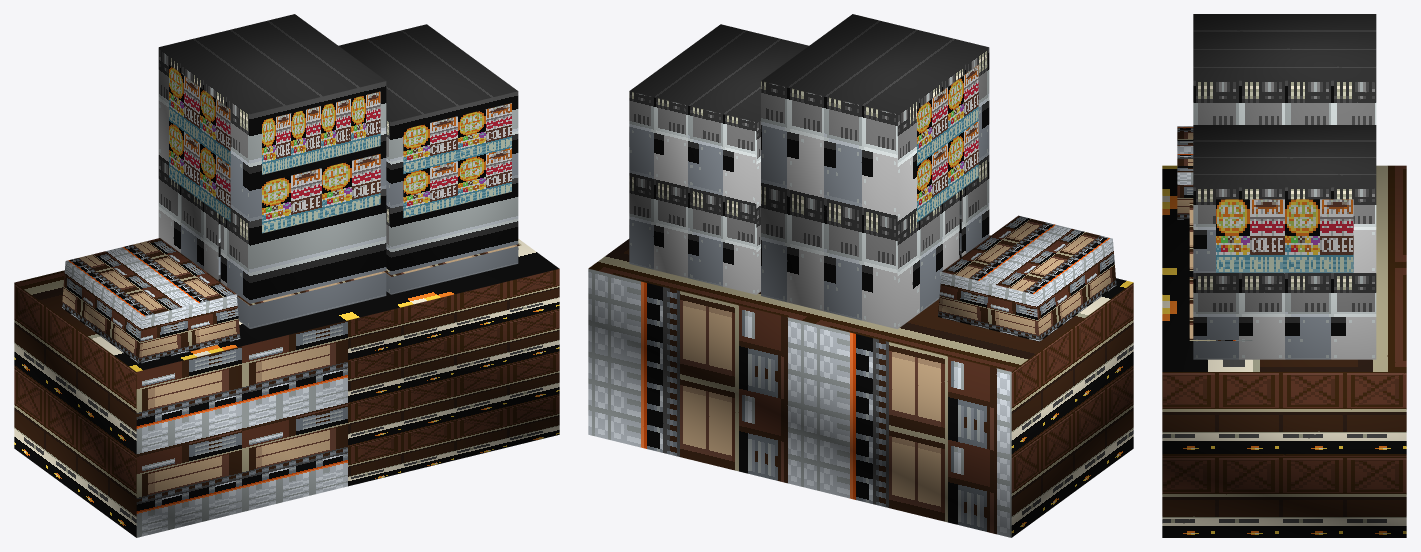
File: 3333IMIG11_02.gltf
3 views of the same model, side by side, from view 1: azimuth 30°, elevation 25°; view 2: azimuth 150°, elevation 25°; view 3: azimuth 270°, elevation 25° (orthographic).
Parts seen in each view (by area): view 1: 3333IMIG11_02; view 2: 3333IMIG11_02; view 3: 3333IMIG11_02.
Boxes of the visible parts, x1=… form: 3333IMIG11_02: x1=14, y1=14, x2=559, y2=537; 3333IMIG11_02: x1=588, y1=14, x2=1133, y2=537; 3333IMIG11_02: x1=1162, y1=14, x2=1406, y2=537.
Bounding box in the file's own units: 1.9 × 1.63 × 0.9502.
5 materials, 5 textured.
